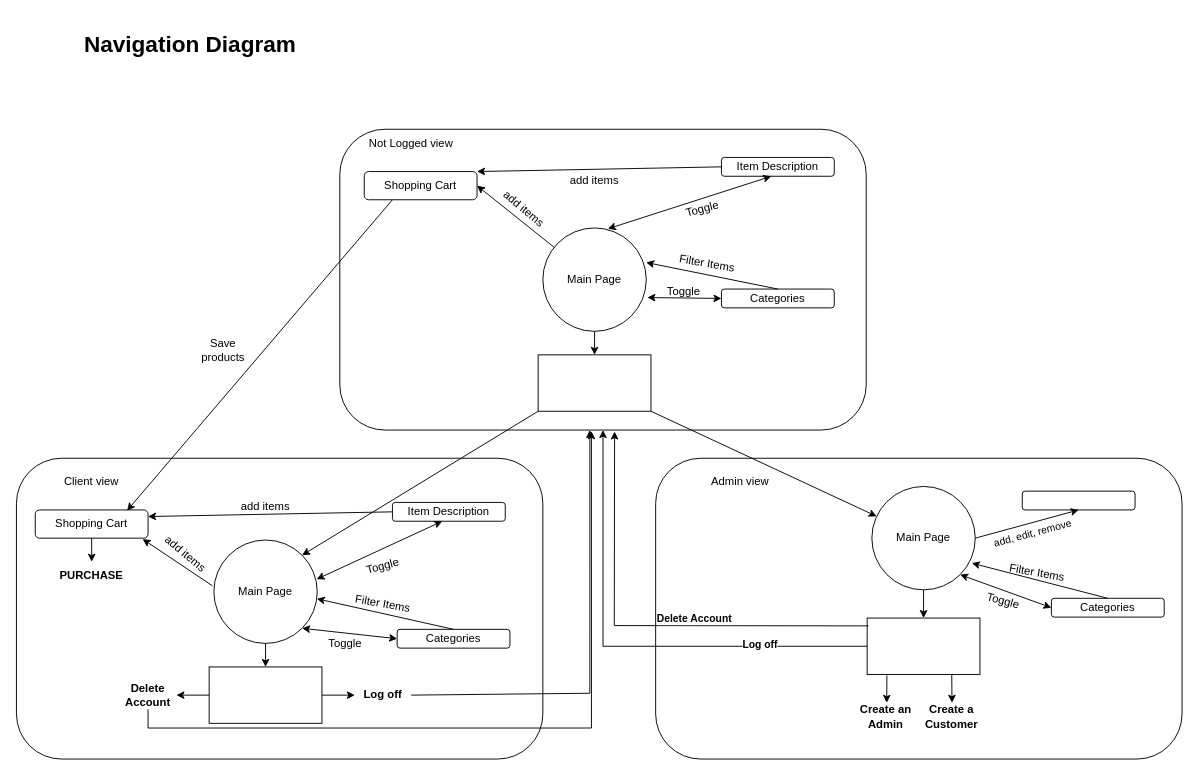
The diagram is 1199 pixels wide and 776 high, and some of its shapes have lost their labels. Each missing label, with the centre of its shape:
Admin Options: the point at 923,645
Client Options: the point at 265,694
Item: the point at 1078,500
Login: the point at 594,382
